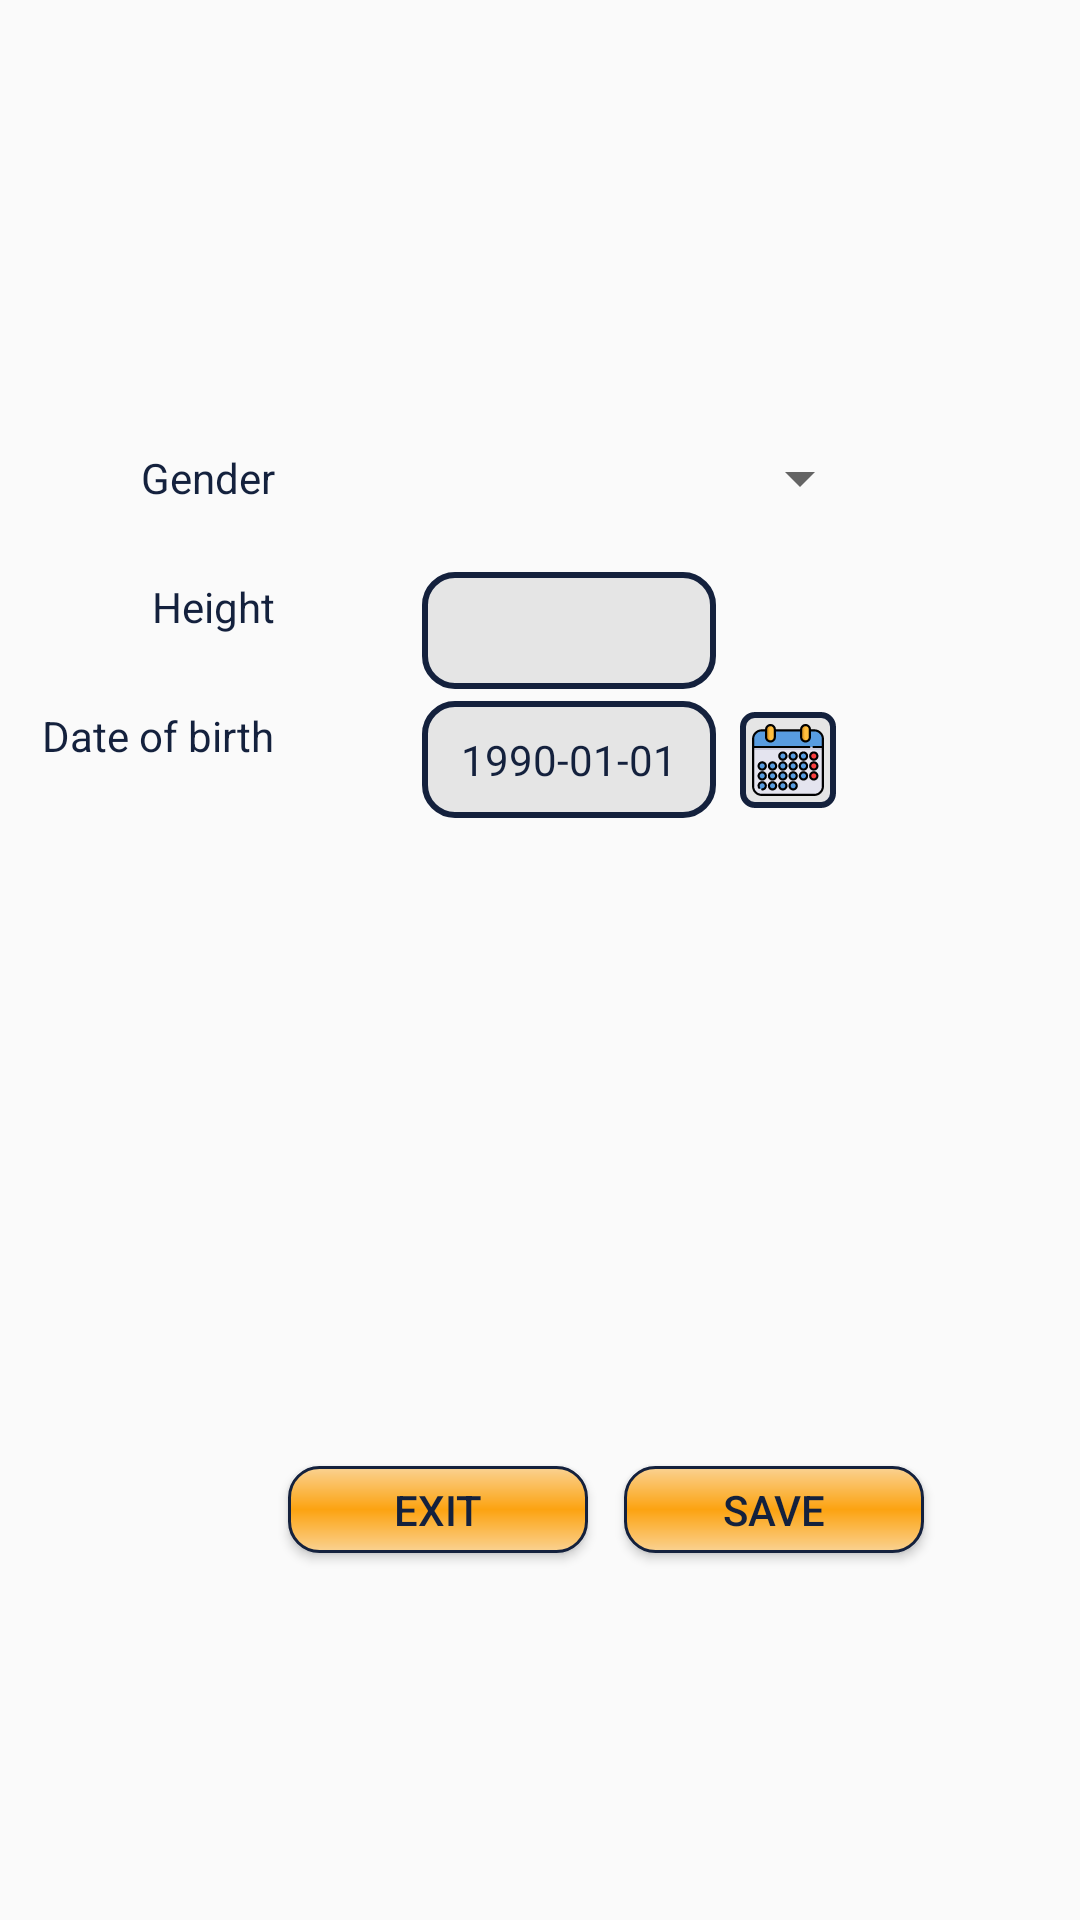

Icons on this 1080 x 1920 Android screen, each with the point to tap as (x=x, y=y):
calendar: (x=788, y=760)
